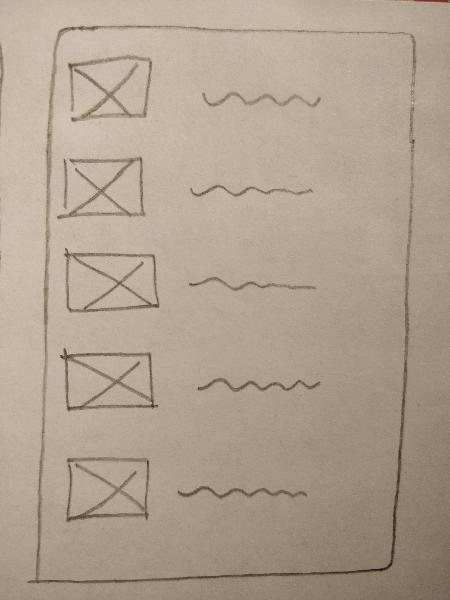image: (53, 451, 161, 525), (55, 341, 163, 412), (56, 246, 164, 316), (64, 55, 156, 128), (56, 152, 148, 225)
text: (172, 465, 319, 510), (192, 75, 326, 121), (185, 165, 319, 211), (184, 259, 318, 305), (190, 357, 324, 403)
